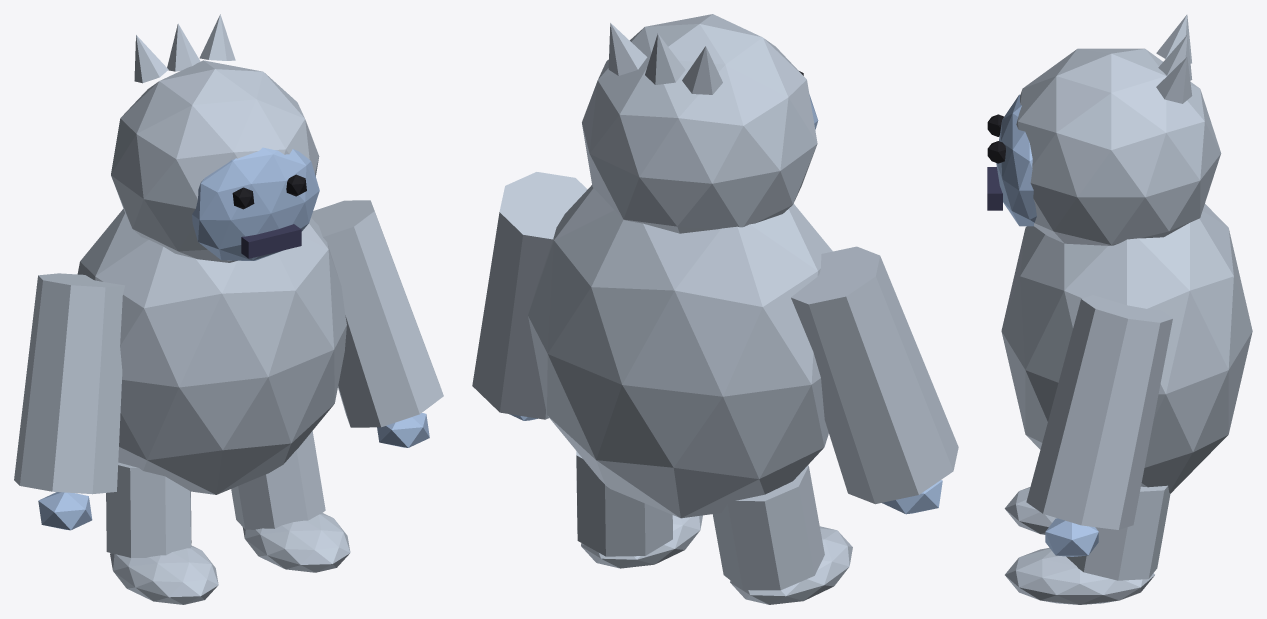
Rendered from Yeti.fbx.
3 views of the same model, side by side, from view 1: azimuth 30°, elevation 25°; view 2: azimuth 150°, elevation 25°; view 3: azimuth 270°, elevation 25° (orthographic). The views are drawn at different scales.
Visible parts, largest first — view 1: Fur, Face, Mouth, Eyes; view 2: Fur, Face; view 3: Fur, Face, Eyes, Mouth.
Boxes of the visible parts, x1,y1,x2,y2 form: Fur: (14,14,443,604); Face: (38,147,429,530); Mouth: (241,224,301,258); Eyes: (232,174,306,209); Fur: (472,14,958,604); Face: (509,94,942,514); Fur: (1001,14,1252,604); Face: (996,94,1098,556); Eyes: (987,114,1005,163); Mouth: (987,167,1002,210).
Size of the model in its own units: 3.18 by 3.73 by 1.69.
